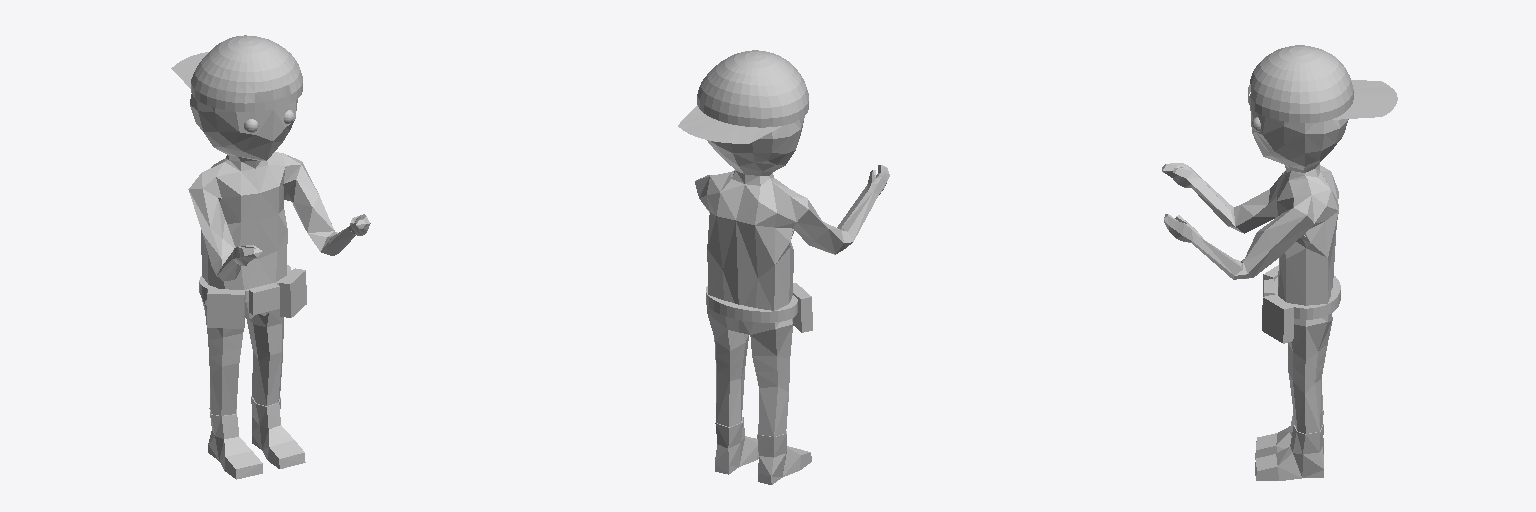
The model's file is Main_Character_TireRack_9.obj.
3 views of the same model, side by side, from view 1: azimuth 30°, elevation 25°; view 2: azimuth 150°, elevation 25°; view 3: azimuth 270°, elevation 25° (orthographic).
Visible parts, largest first — view 1: Main_Character_Test.003_Main_Character_Test.004; view 2: Main_Character_Test.003_Main_Character_Test.004; view 3: Main_Character_Test.003_Main_Character_Test.004.
Boxes of the visible parts, x1,y1,x2,y2 form: Main_Character_Test.003_Main_Character_Test.004: [171, 35, 370, 479]; Main_Character_Test.003_Main_Character_Test.004: [678, 50, 889, 484]; Main_Character_Test.003_Main_Character_Test.004: [1162, 45, 1397, 480].
Bounding box in the file's own units: 1.37 × 3.98 × 2.05.